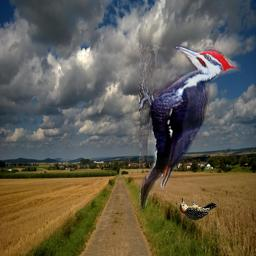Woodpecker: (139, 45, 241, 213), (176, 196, 220, 220)
